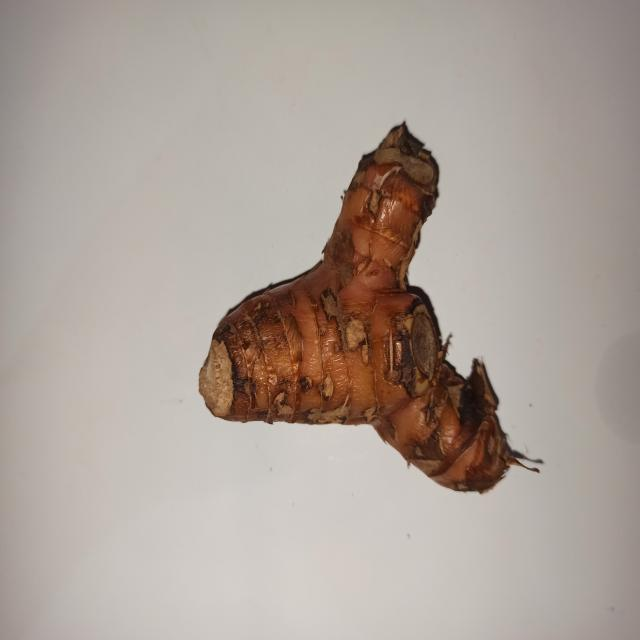ginger: (186, 130, 492, 480)
